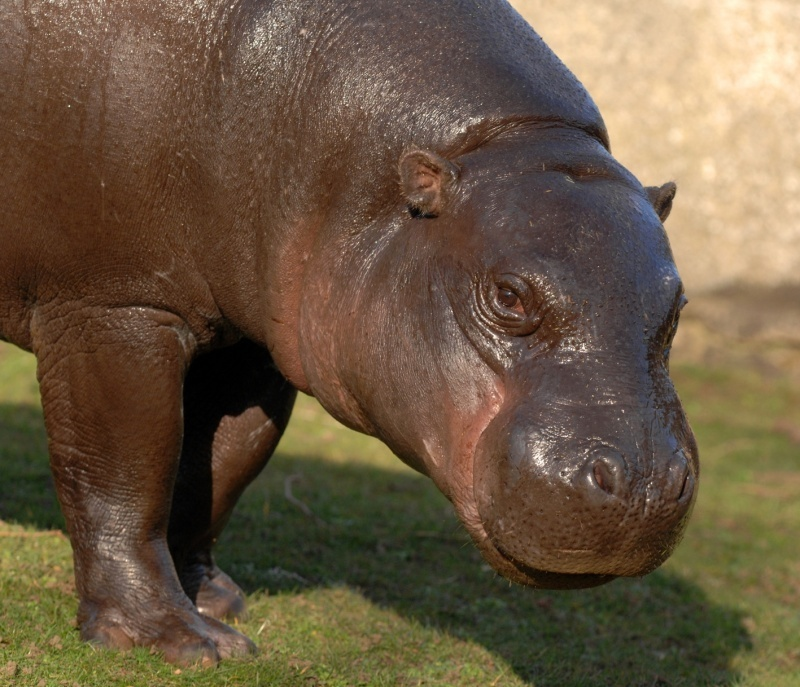hipopotamo: (1, 0, 723, 679)
